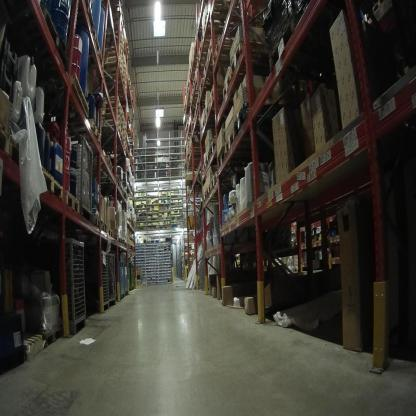pallet: (269, 19, 357, 71), (233, 103, 300, 143), (42, 69, 93, 120), (226, 131, 299, 164), (62, 26, 107, 69), (200, 4, 249, 42), (225, 44, 272, 83), (221, 69, 265, 109), (33, 4, 62, 48), (62, 2, 102, 33), (49, 119, 102, 140), (18, 327, 44, 368), (39, 164, 64, 205), (219, 149, 262, 171), (203, 100, 236, 126), (98, 53, 124, 85), (213, 36, 235, 73), (108, 33, 135, 57), (209, 86, 237, 108), (199, 78, 226, 98), (90, 154, 114, 176), (202, 61, 226, 82), (44, 325, 64, 350), (203, 190, 234, 206), (14, 132, 28, 166), (213, 172, 241, 189), (62, 191, 81, 215), (1, 121, 12, 155), (197, 44, 216, 63), (370, 1, 399, 13), (107, 12, 127, 29), (204, 183, 230, 196), (99, 105, 120, 121), (205, 150, 229, 164), (194, 96, 211, 115), (209, 136, 226, 154), (100, 93, 122, 105), (206, 39, 217, 63), (99, 120, 120, 132), (101, 100, 122, 109), (200, 160, 209, 179), (189, 142, 203, 154), (93, 214, 101, 231), (127, 75, 133, 90), (119, 142, 127, 153), (101, 223, 108, 235), (120, 107, 126, 117), (119, 119, 124, 131), (120, 128, 125, 140), (120, 115, 125, 123), (119, 237, 123, 246), (107, 231, 114, 236), (115, 232, 118, 243)
stillage: (34, 236, 91, 339), (68, 132, 99, 221), (94, 249, 109, 315), (107, 249, 118, 305)
